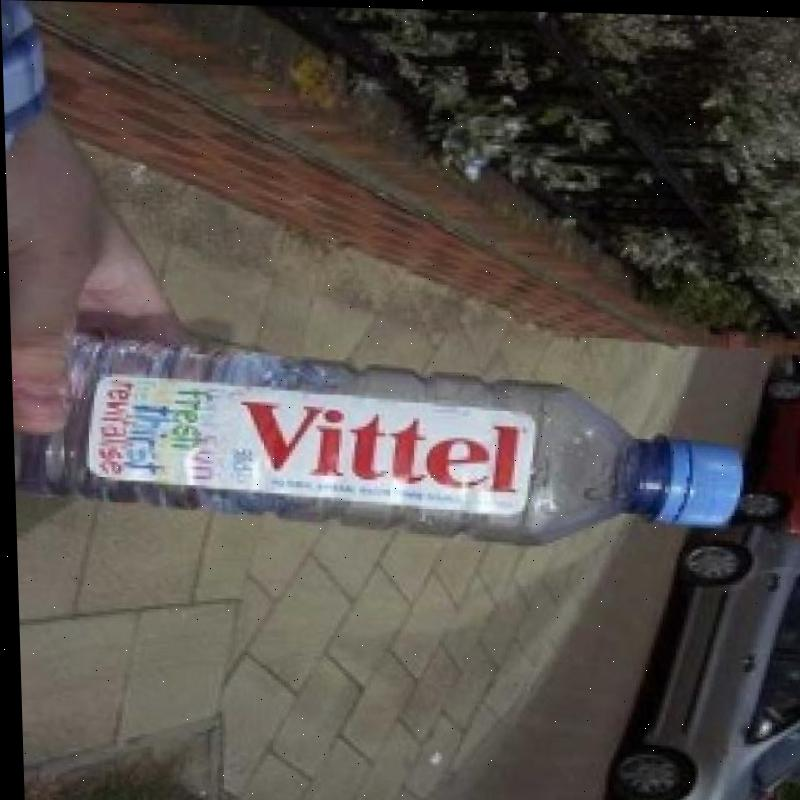botella: (16, 330, 742, 548)
